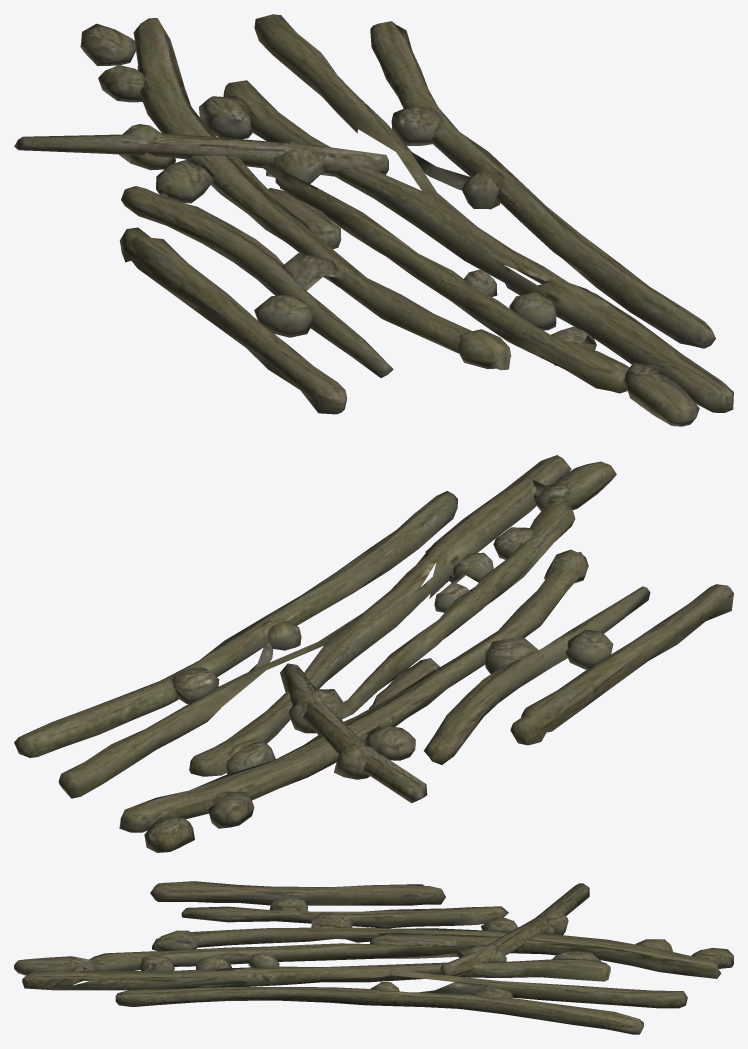
Rendered from av_tabuas.glb.
3 renders of one model, top to bottom at view 1: azimuth 30°, elevation 25°; view 2: azimuth 150°, elevation 25°; view 3: azimuth 270°, elevation 25°, orthographic. The views are drawn at different scales.
Visible parts, largest first — view 1: Mesh_0.003; view 2: Mesh_0.003; view 3: Mesh_0.003.
Boxes of the visible parts, left/top/right/bottom form: Mesh_0.003: left=14, top=14, right=733, bottom=426; Mesh_0.003: left=14, top=455, right=733, bottom=852; Mesh_0.003: left=14, top=881, right=733, bottom=1034.
Bounding box in the file's own units: 0.1562 × 0.0137 × 0.3359.
1 material, 1 textured.
